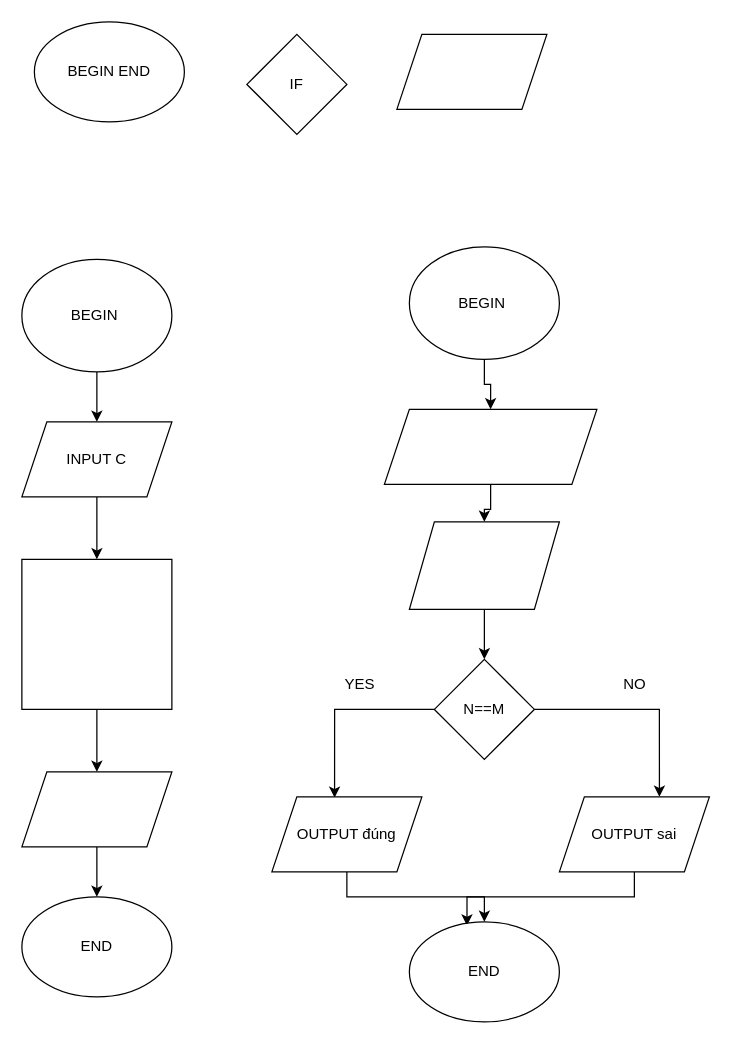
The diagram is 731 pixels wide and 1044 high, and some of its shapes have lost their labels. The shapes that lost their labels are listed below. From the top down, each one's box as (x1, y1, x2, y2) in pixels, then its label:
(396, 33, 547, 109): INPUT OUTPUT
(383, 408, 597, 484): INPUT N ngẫu nhiên từ 0-9
(408, 521, 559, 609): INPUT M
(21, 558, 172, 709): DO\ F = (9*C)/5 + 32
(21, 771, 172, 847): DISPLAY F
